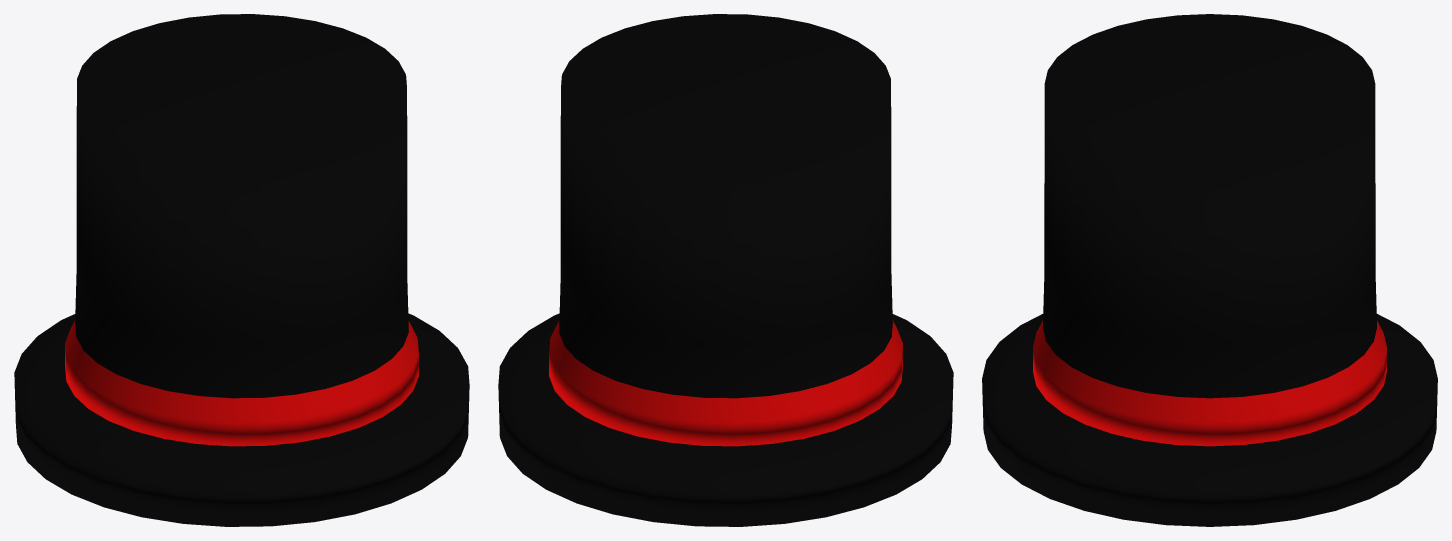
Rendered from top hat.fbx.
3 renders of one model, left to right at view 1: azimuth 30°, elevation 25°; view 2: azimuth 150°, elevation 25°; view 3: azimuth 270°, elevation 25°, orthographic.
Parts seen in each view (by area): view 1: Cylinder; view 2: Cylinder; view 3: Cylinder.
Boxes of the visible parts, x1,y1,x2,y2 form: Cylinder: (14,14,469,526); Cylinder: (498,14,953,526); Cylinder: (982,14,1437,526).
Size of the model in its own units: 192 by 162 by 192.
